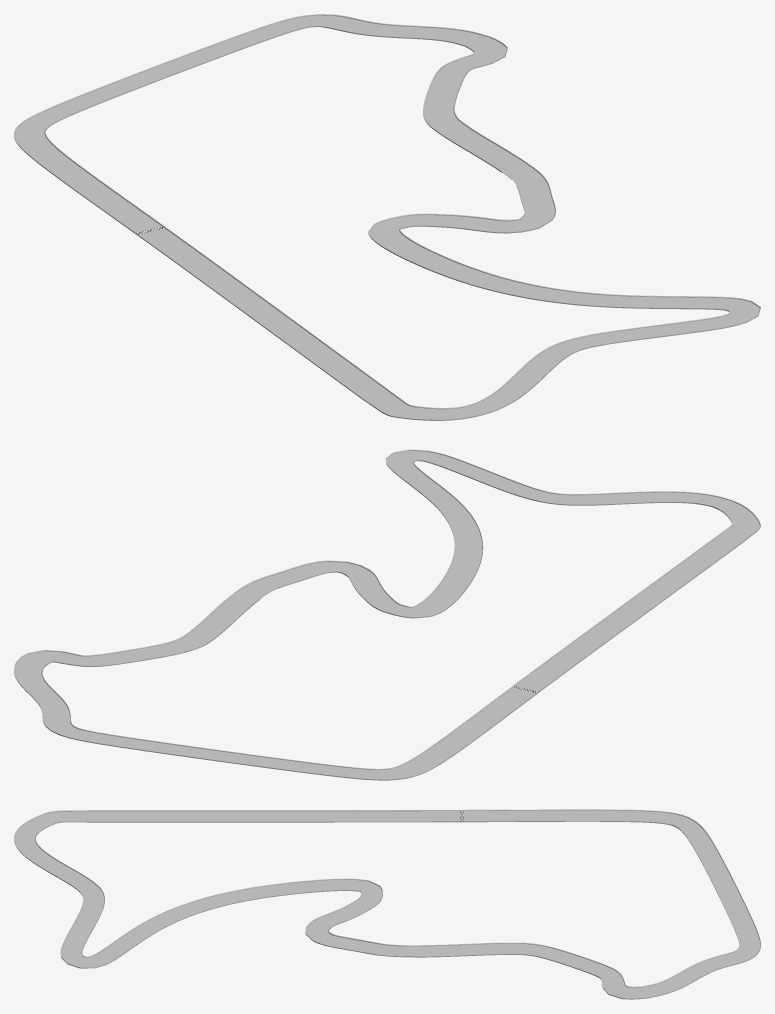
File: RaceRoad.fbx
3 renders of one model, top to bottom at view 1: azimuth 30°, elevation 25°; view 2: azimuth 150°, elevation 25°; view 3: azimuth 270°, elevation 25°, orthographic. The views are drawn at different scales.
Parts seen in each view (by area): view 1: RaceRoad; view 2: RaceRoad; view 3: RaceRoad.
Part boxes in pixels (bbox=[...]): RaceRoad: bbox=[14, 14, 760, 420]; RaceRoad: bbox=[14, 449, 760, 780]; RaceRoad: bbox=[14, 809, 760, 999].
Size of the model in its own units: 405 by 1.21 by 675.
